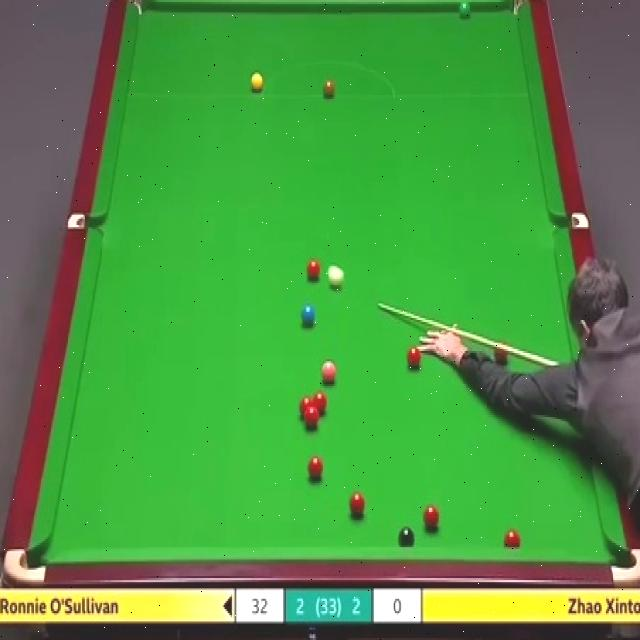black-ball: (399, 525, 415, 548)
brown-ball: (322, 76, 334, 97)
green-ball: (457, 0, 469, 17)
pink-ball: (322, 358, 337, 385)
red-ball: (349, 490, 366, 520), (308, 452, 325, 481), (422, 506, 440, 533), (406, 347, 422, 372), (493, 341, 508, 366), (299, 396, 313, 422), (502, 527, 521, 546), (305, 258, 321, 280), (313, 392, 327, 416), (305, 410, 320, 430)
white-ball: (329, 265, 344, 289)
yellow-ball: (250, 75, 262, 92)
